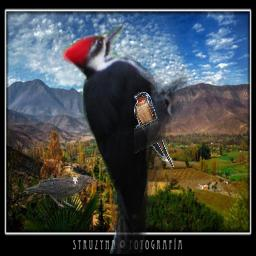Crow: (23, 174, 97, 208)
Swallow: (134, 92, 174, 169)
Woodpecker: (58, 23, 188, 254)
